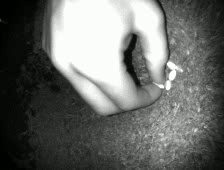corn: (165, 59, 180, 71), (150, 80, 166, 91), (167, 68, 178, 82), (163, 77, 173, 92), (175, 64, 185, 74)
